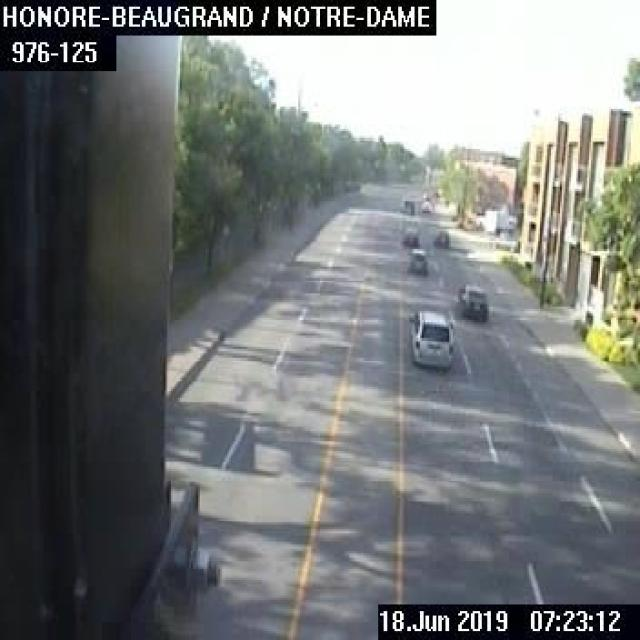vehicle: (408, 308, 453, 368), (457, 282, 488, 318), (405, 247, 427, 271), (400, 226, 418, 246), (433, 228, 448, 246)
